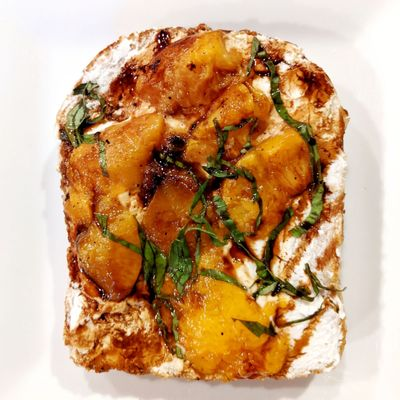sandwich: (57, 17, 353, 391)
